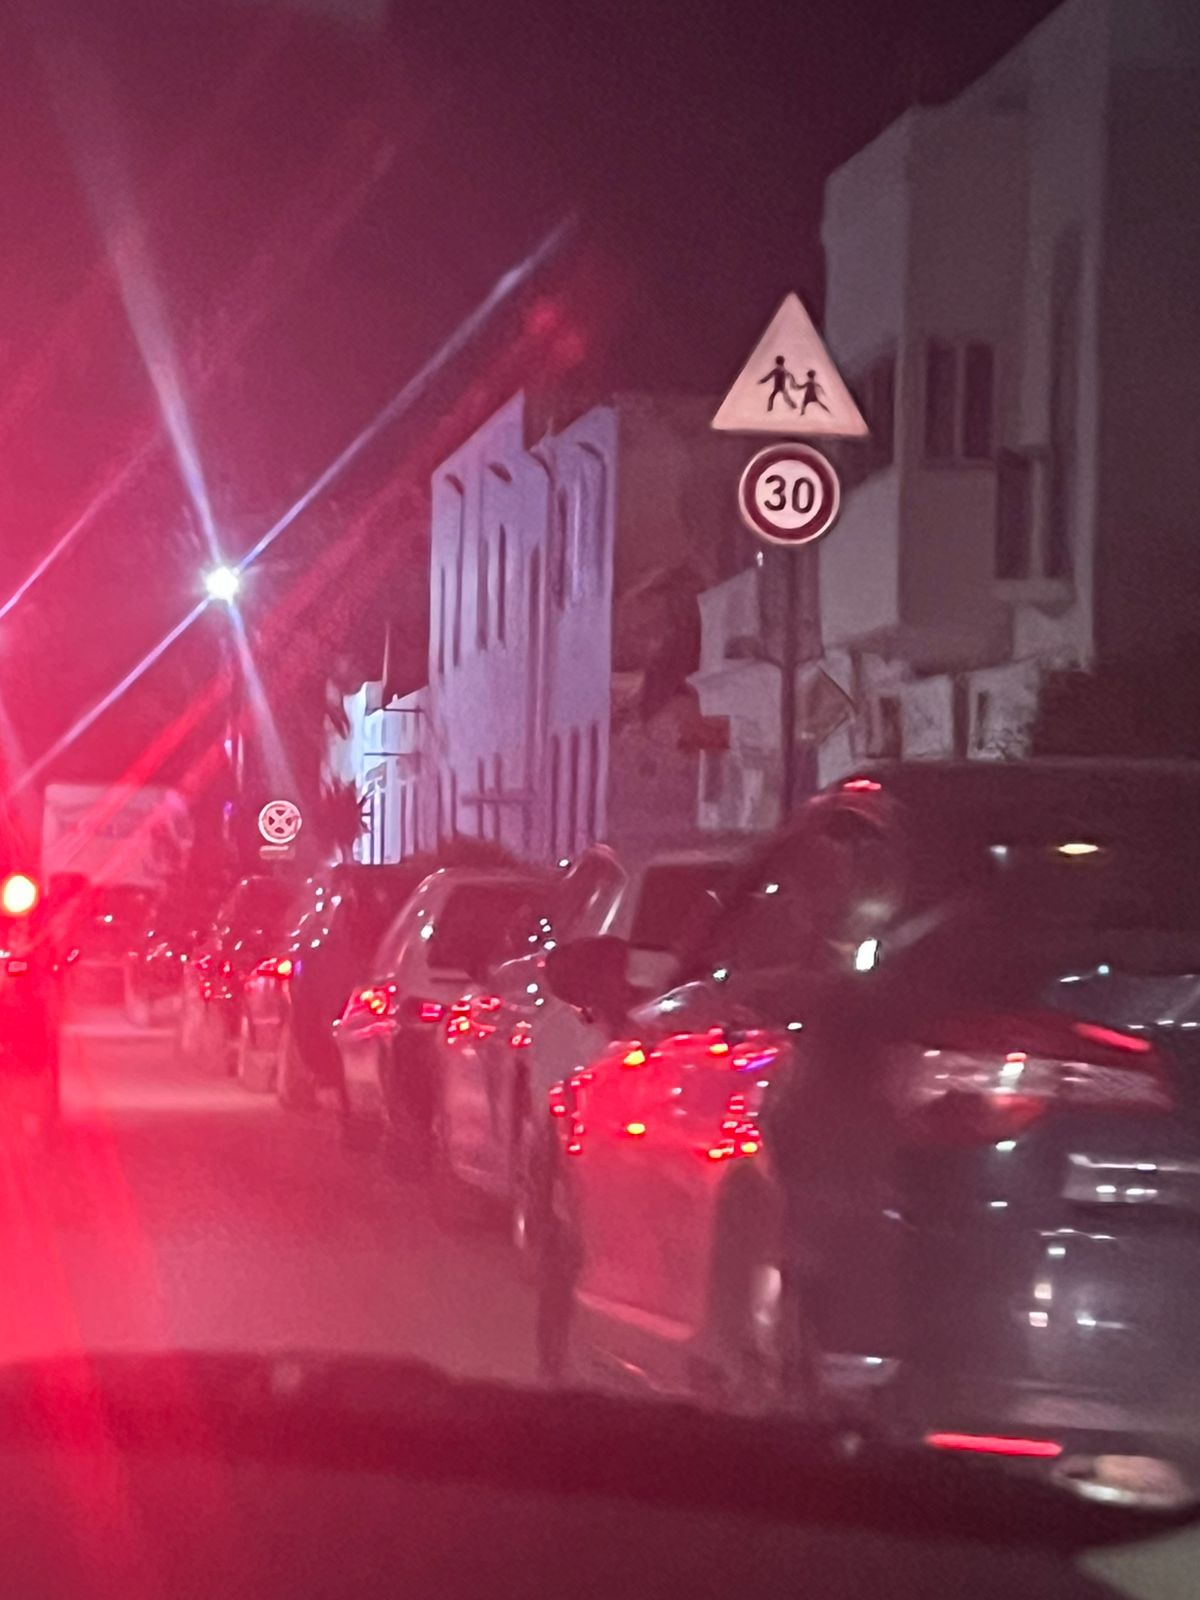SpeedLimit30: (738, 441, 841, 546)
